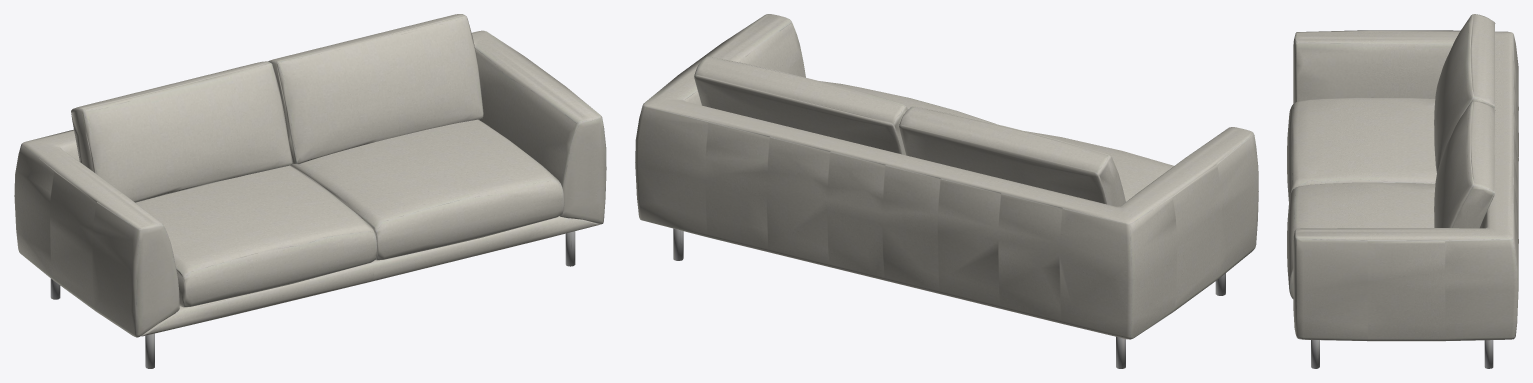
The model's file is REDUCED_26742_FargoSofaWhiteBahiaLeather.fbx.
3 renders of one model, left to right at view 1: azimuth 30°, elevation 25°; view 2: azimuth 150°, elevation 25°; view 3: azimuth 270°, elevation 25°, orthographic. The views are drawn at different scales.
Parts seen in each view (by area): view 1: furnitureGroup; view 2: furnitureGroup; view 3: furnitureGroup.
Part boxes in pixels (x1=…): furnitureGroup: x1=14, y1=14, x2=606, y2=368; furnitureGroup: x1=635, y1=14, x2=1258, y2=368; furnitureGroup: x1=1287, y1=14, x2=1518, y2=368.
Size of the model in its own units: 2179 by 831 by 995.
